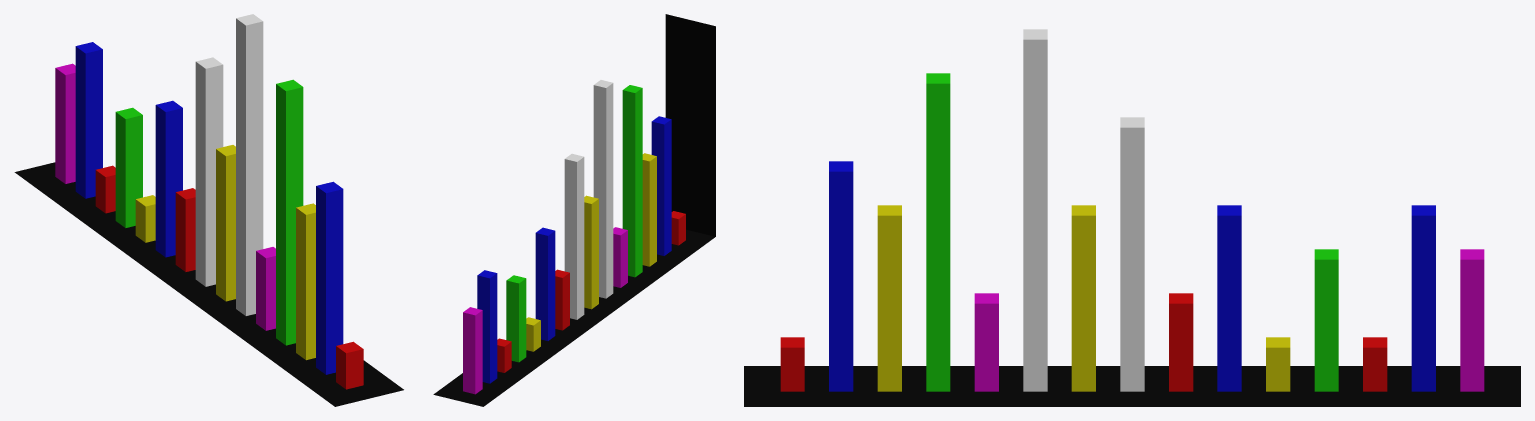
3 renders of one model, left to right at view 1: azimuth 30°, elevation 25°; view 2: azimuth 150°, elevation 25°; view 3: azimuth 270°, elevation 25°, orthographic. The views are drawn at different scales.
Parts seen in each view (by area): view 1: Plane; view 2: Plane; view 3: Plane.
Boxes of the visible parts, x1,y1,x2,y2 form: Plane: [14, 14, 403, 406]; Plane: [433, 14, 715, 406]; Plane: [744, 29, 1520, 406].
Bounding box in the file's own units: 200 × 800 × 1600.
